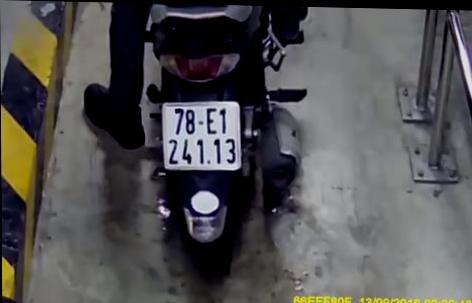License_Plate: (155, 98, 246, 176)
